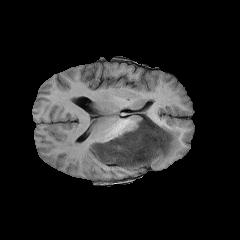glioma: (88, 111, 179, 168)
